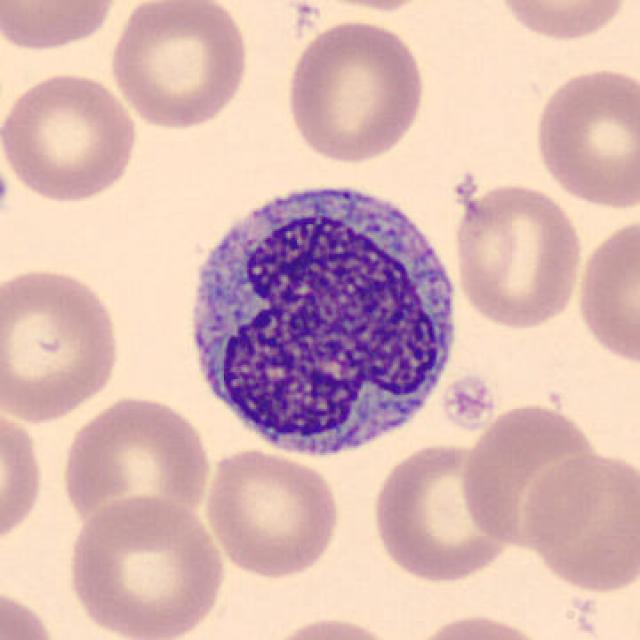Monocyte: (172, 164, 468, 471)
RBC: (62, 492, 230, 640), (457, 397, 610, 550), (57, 392, 213, 540), (281, 16, 430, 166), (368, 439, 514, 585), (452, 176, 586, 334), (0, 261, 124, 426), (0, 67, 142, 205), (105, 0, 252, 132), (199, 446, 343, 580), (521, 448, 638, 594), (530, 63, 638, 210), (572, 212, 640, 368), (0, 402, 46, 555), (0, 0, 124, 54), (491, 0, 631, 44), (404, 610, 554, 640), (255, 613, 405, 640), (0, 582, 62, 640), (284, 0, 441, 14)
